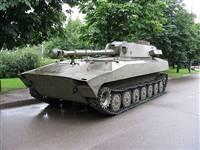sau: (17, 36, 183, 113)
